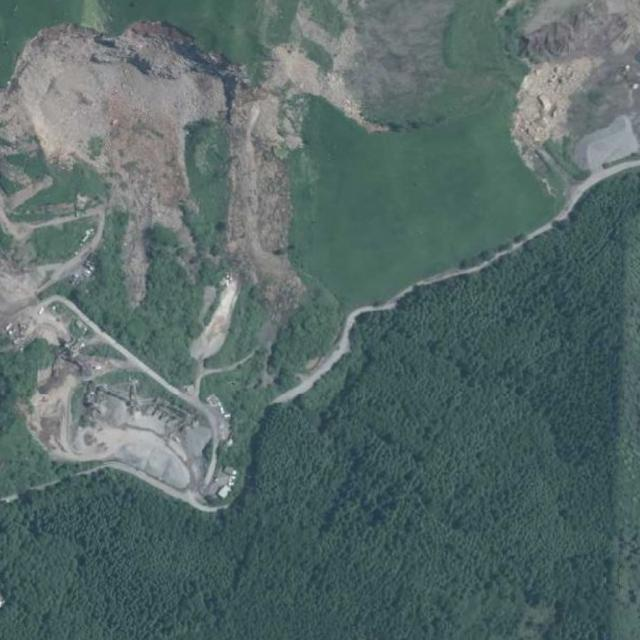landslide: (0, 21, 247, 306), (513, 0, 640, 193), (209, 105, 303, 318), (348, 0, 495, 129), (513, 55, 603, 175)
